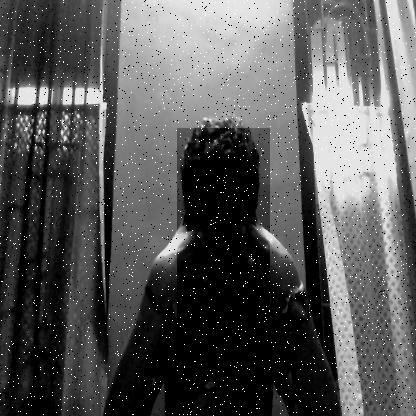Distracted: (177, 128, 270, 328)
